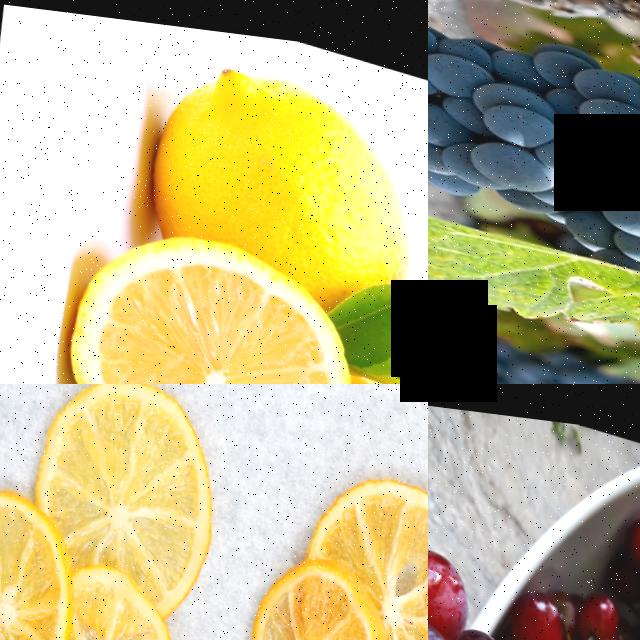grapes: (428, 0, 640, 274), (428, 507, 640, 640)
lemon: (43, 198, 353, 384), (21, 384, 236, 585), (221, 533, 401, 640), (0, 476, 87, 640), (21, 562, 200, 640)
peanuts: (128, 35, 424, 284)
